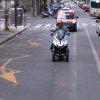Motorcycle: (44, 19, 71, 68)
